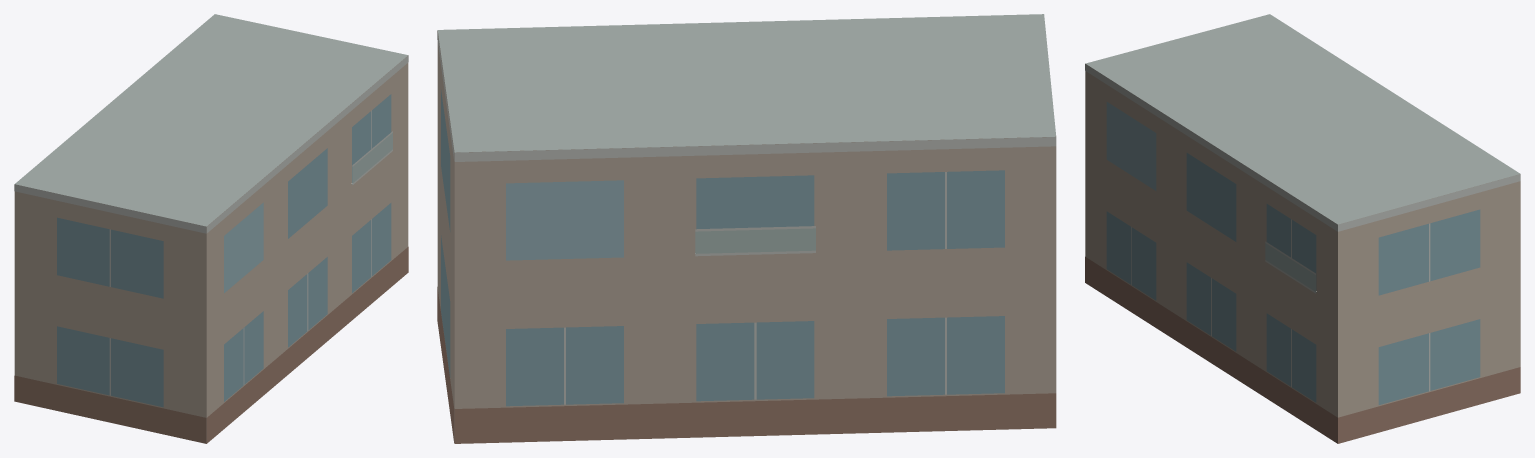
Rendered from survey-upis-32619359.glb.
The picture shows the model from 3 angles, left to right: view 1: azimuth 30°, elevation 25°; view 2: azimuth 150°, elevation 25°; view 3: azimuth 270°, elevation 25°; orthographic projection. The views are drawn at different scales.
Parts seen in each view (by area): view 1: survey-upis-32619359.tmp; view 2: survey-upis-32619359.tmp; view 3: survey-upis-32619359.tmp.
Part boxes in pixels (<box>): survey-upis-32619359.tmp: <box>14,14,408,443</box>; survey-upis-32619359.tmp: <box>437,14,1056,443</box>; survey-upis-32619359.tmp: <box>1085,14,1520,443</box>.
Size of the model in its own units: 15.25 by 7.4 by 13.33.
